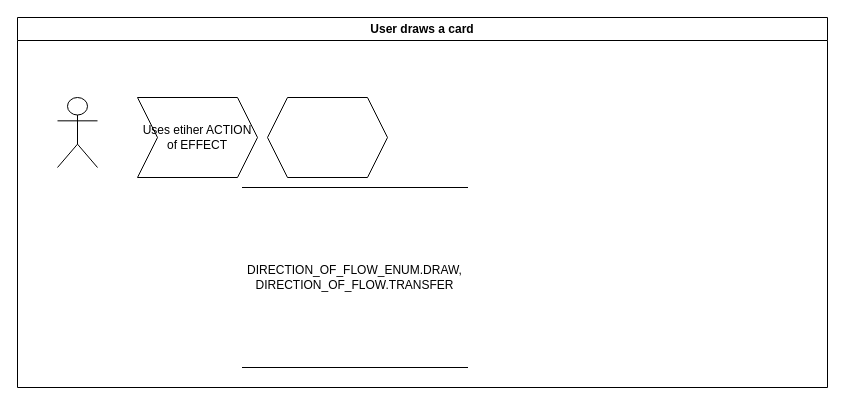
This 845x405 diagram has some shape labels left out. Each missing label, with the box of its shape:
Actor: (56, 96, 98, 168)
Trigger TRANSFER_CARD: (266, 96, 388, 178)
